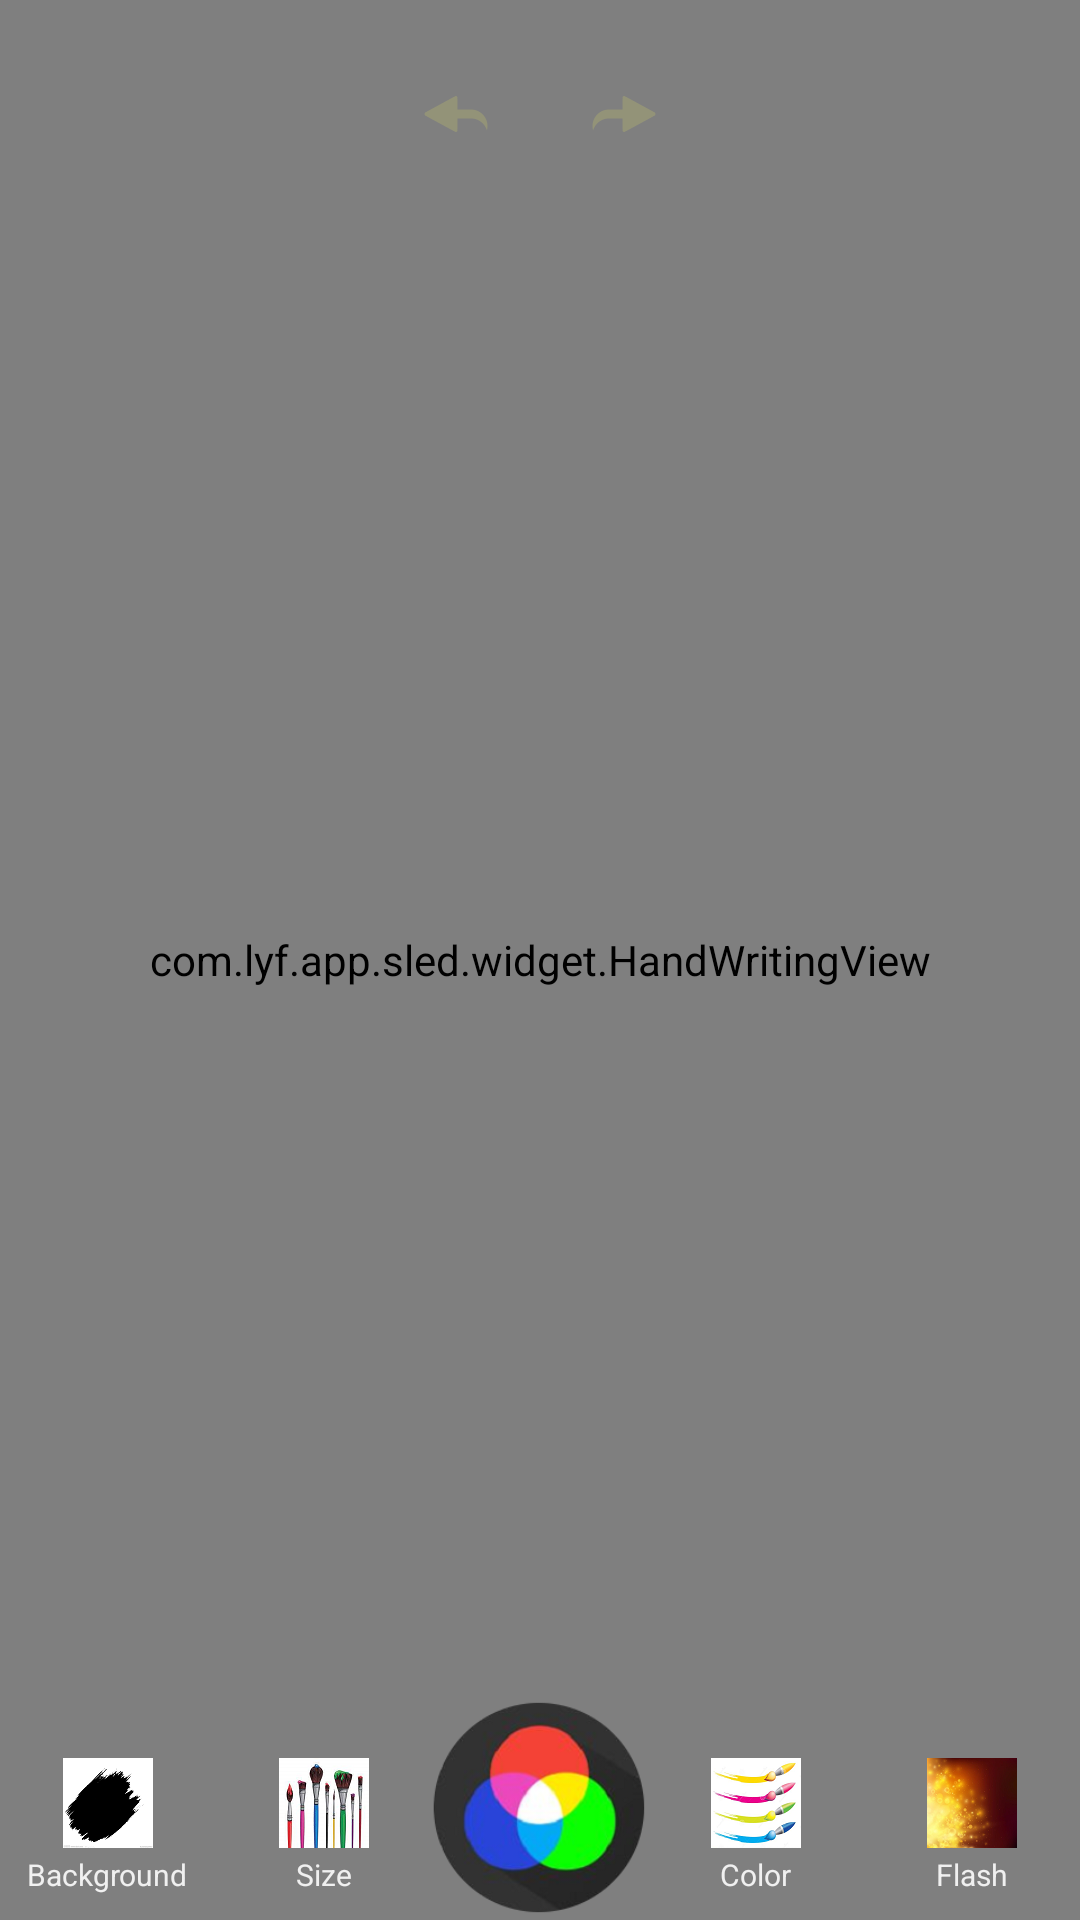

Where icons sit on this 1080w x 1920h app screen, as (x1, y1, x2, y2):
paint: (711, 1758, 801, 1848)
